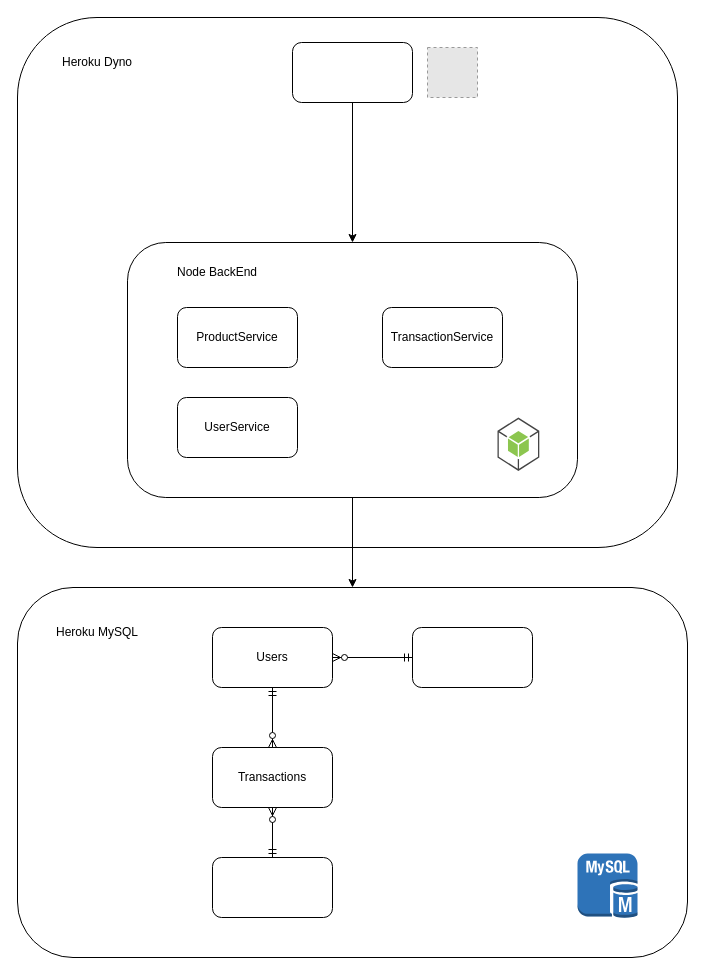
This 705x975 diagram has some shape labels left out. Grey dashed boxes stand in for pictures. Each missing label, with the centre of its shape:
Products: the point at 272,887
React FrontEnd: the point at 352,72
User Level: the point at 472,657
